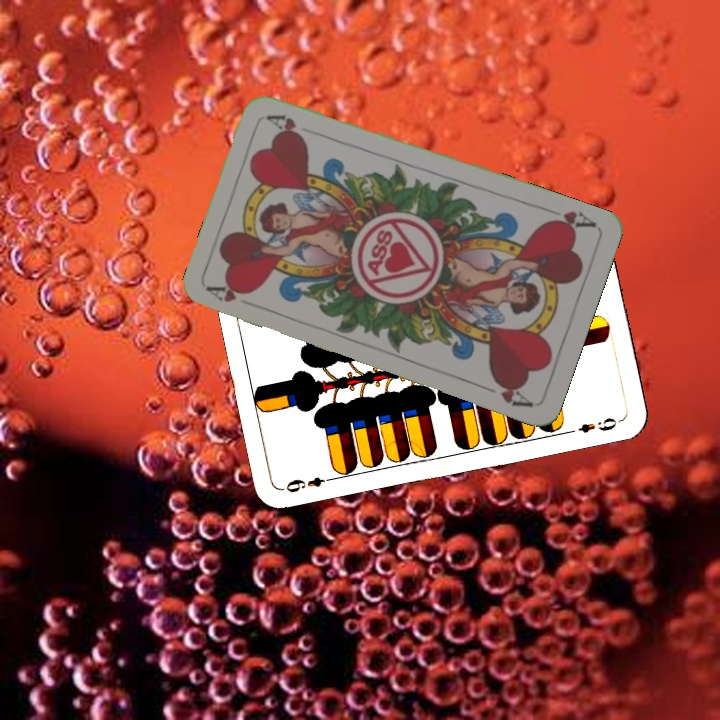E9: (280, 473, 338, 496)
HA: (541, 203, 598, 235), (205, 280, 254, 305)
